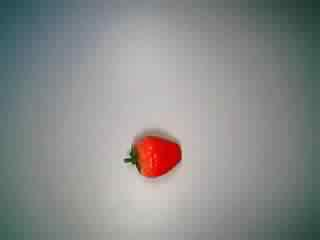strawberry: (117, 121, 185, 185)
